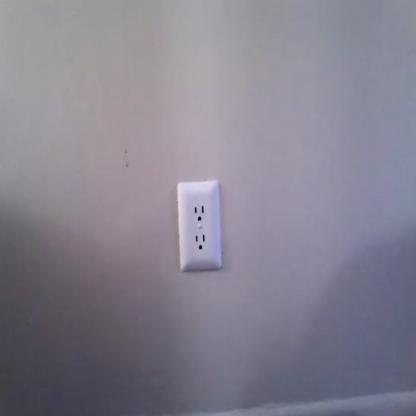OUTLET: (176, 182, 223, 272)
